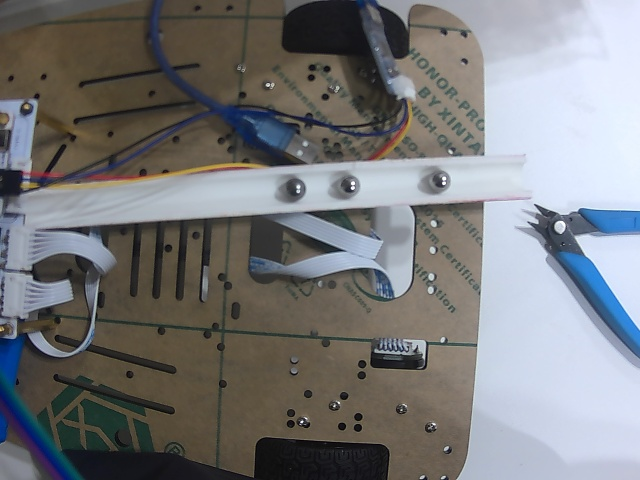steelball: (284, 178, 306, 200), (338, 176, 362, 196), (429, 171, 451, 191)
